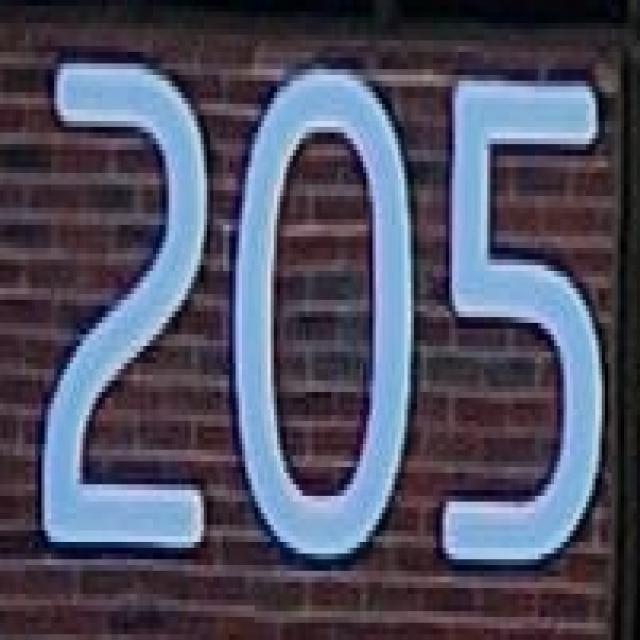character: (231, 61, 422, 577), (436, 65, 617, 575), (37, 44, 211, 560)
